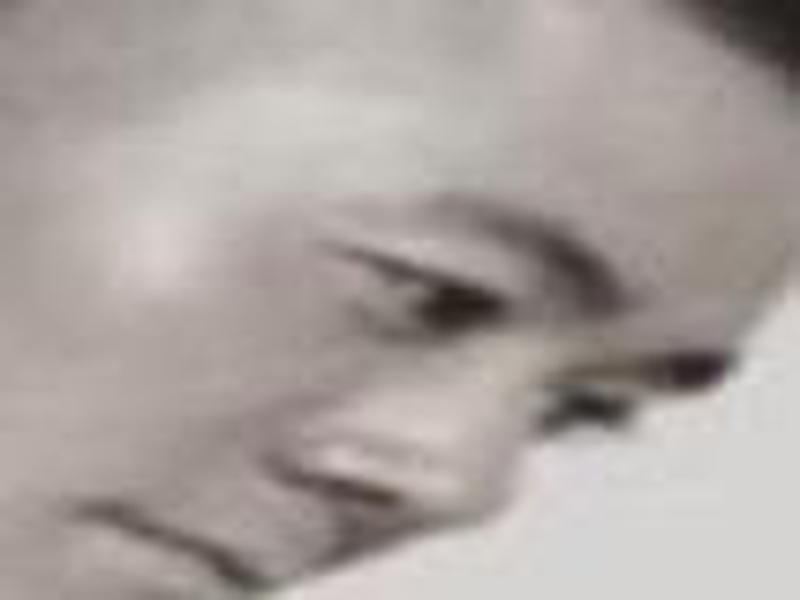without_mask: (10, 4, 799, 600)
